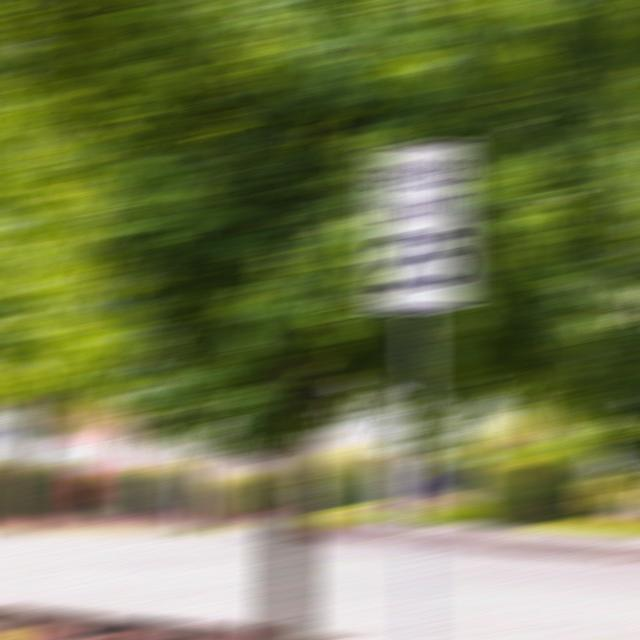speedLimit25: (362, 141, 472, 314)
